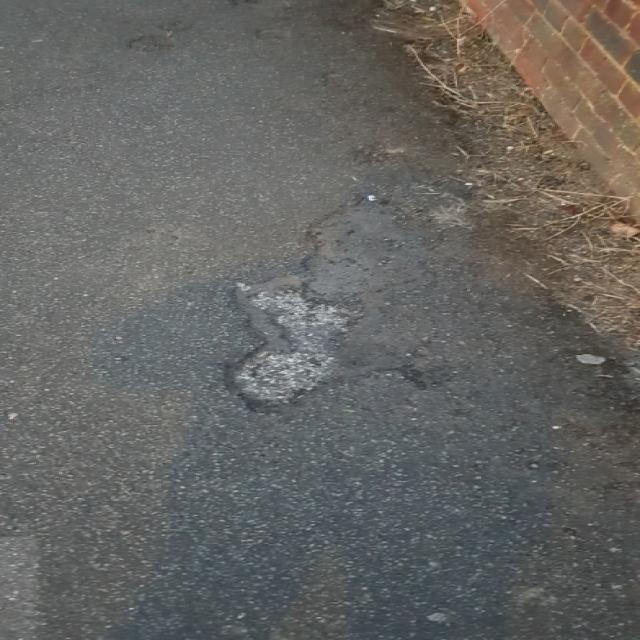pothole: (214, 274, 370, 412)
